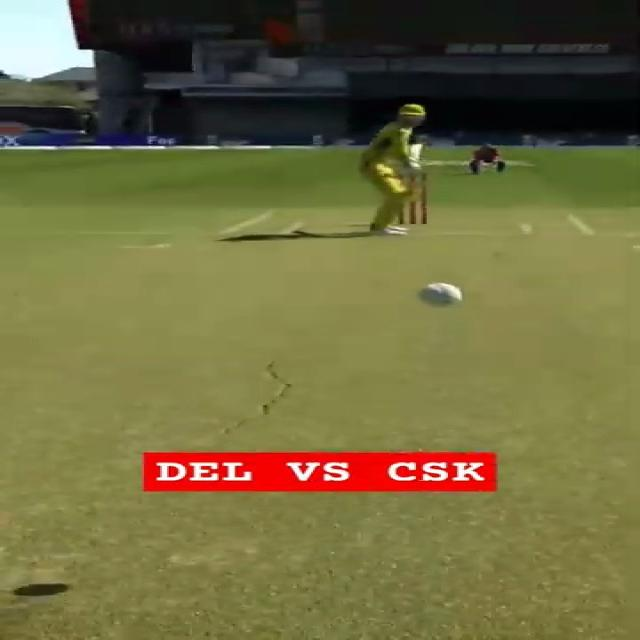ball: (412, 280, 468, 308)
